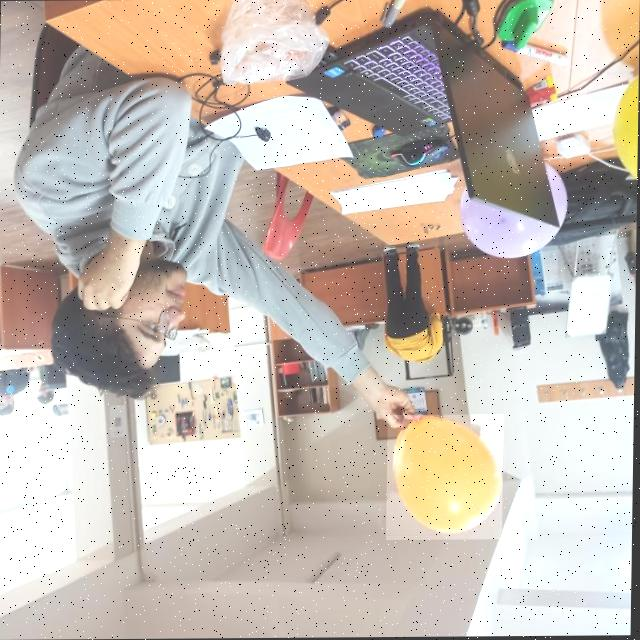balloon: (386, 414, 504, 540)
